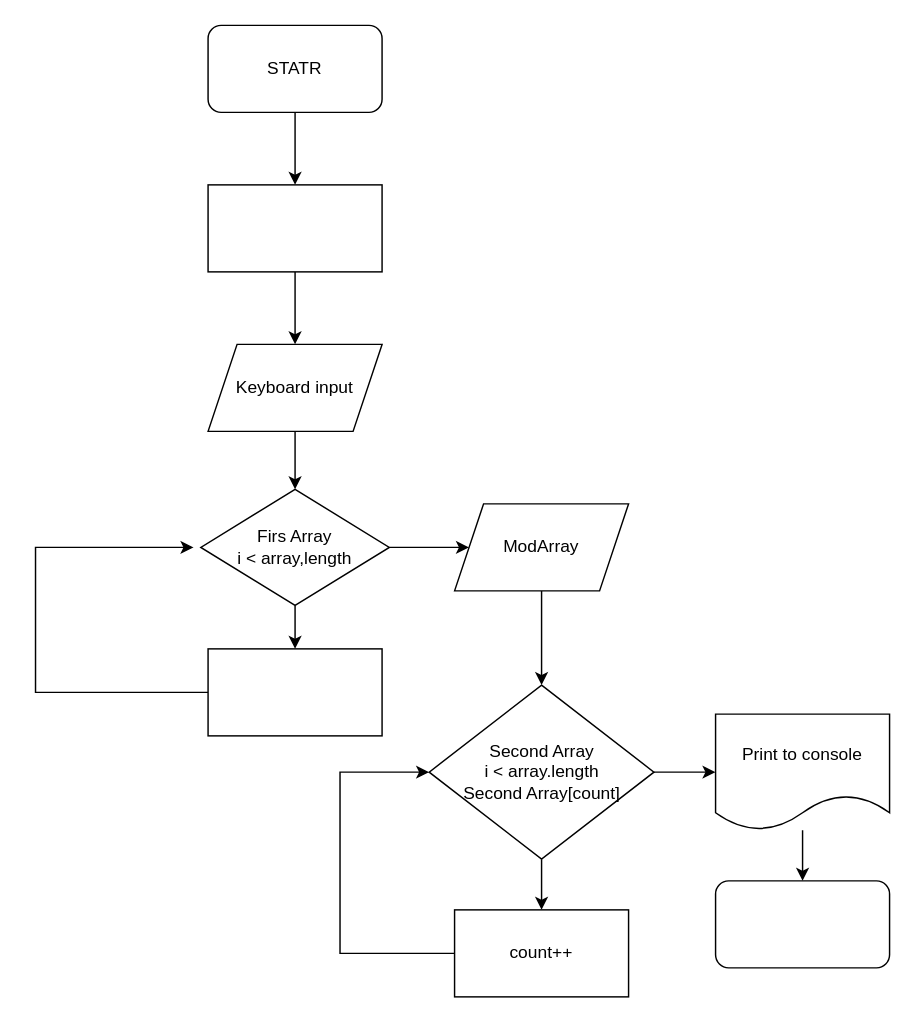
This 915x1022 diagram has some shape labels left out. Each missing label, with the centre of its shape:
END: point 802,923
First Array [] Second Array [] int count = 0: point 294,227
int i = 0; i++: point 294,691
